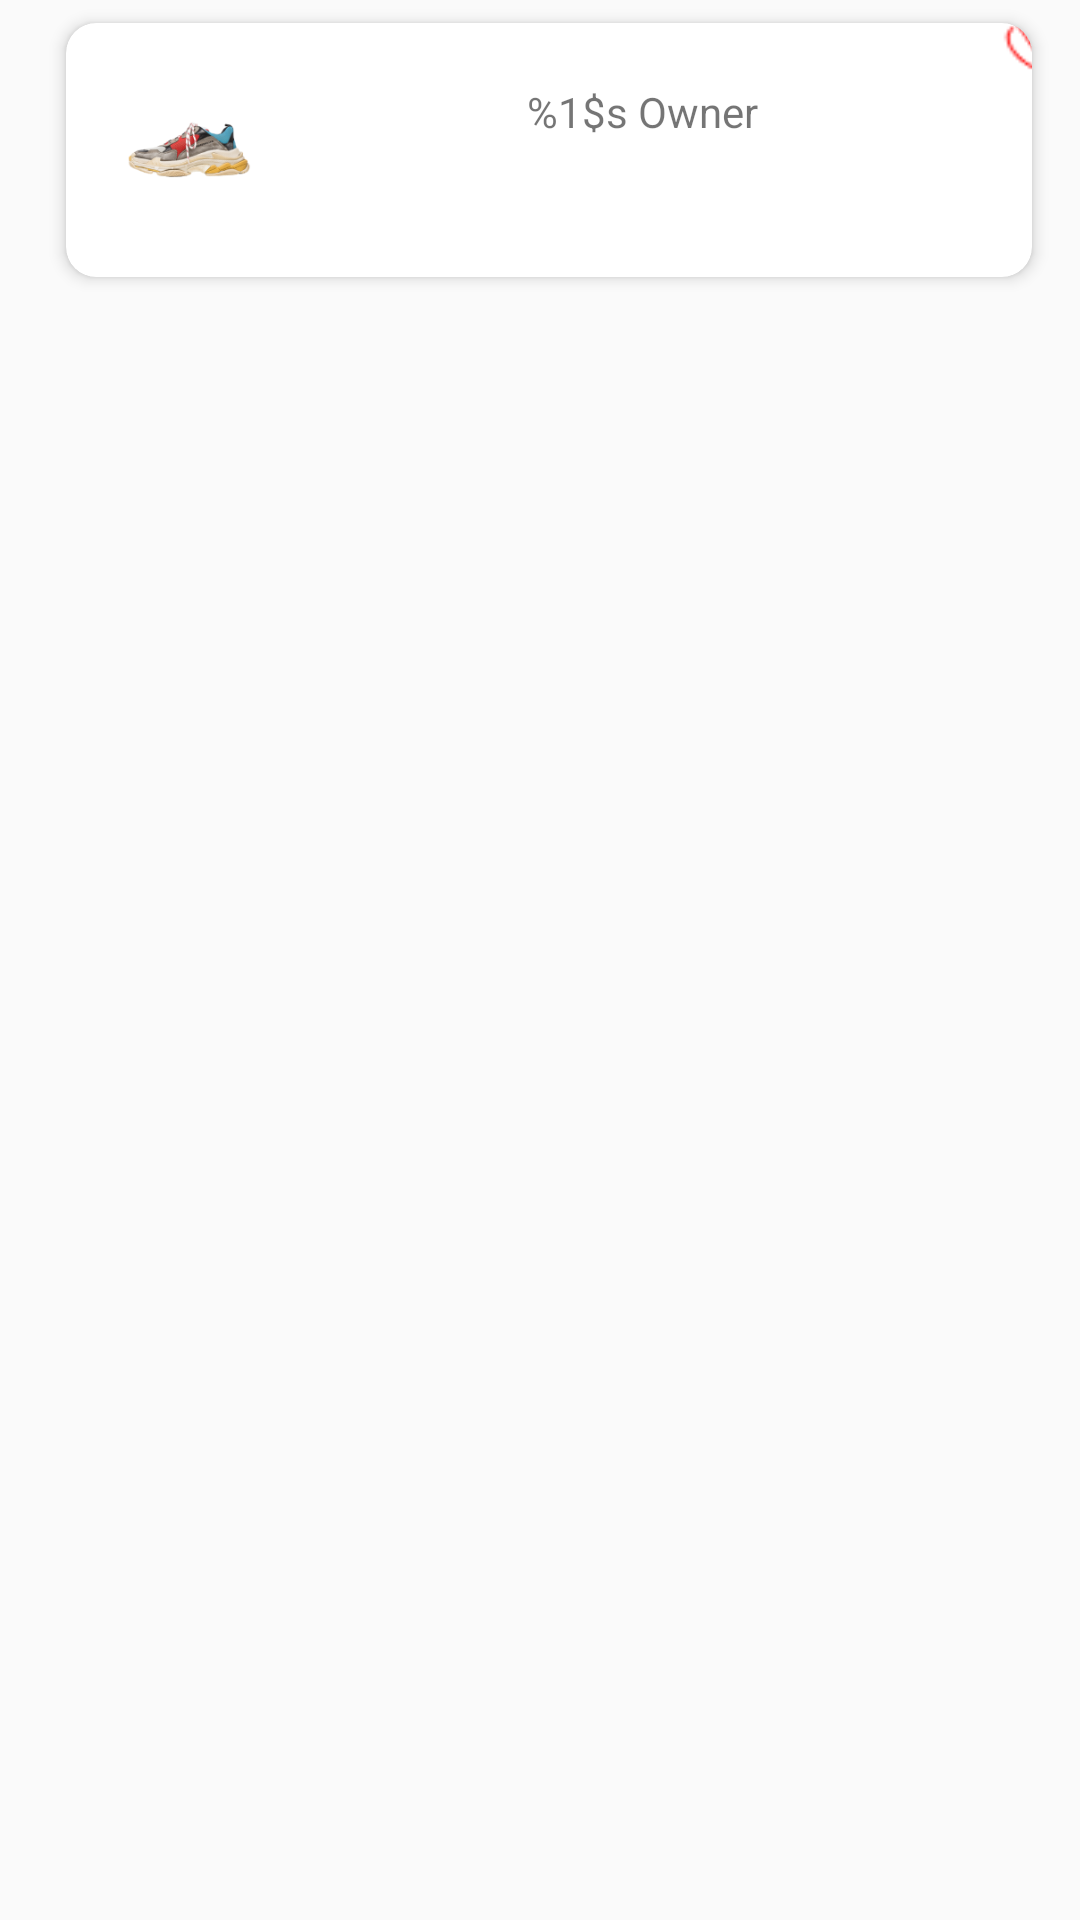

Where to tap for icons on this 1080 x 1920 app screen, as [x,y]:
shoe: [189,150]
